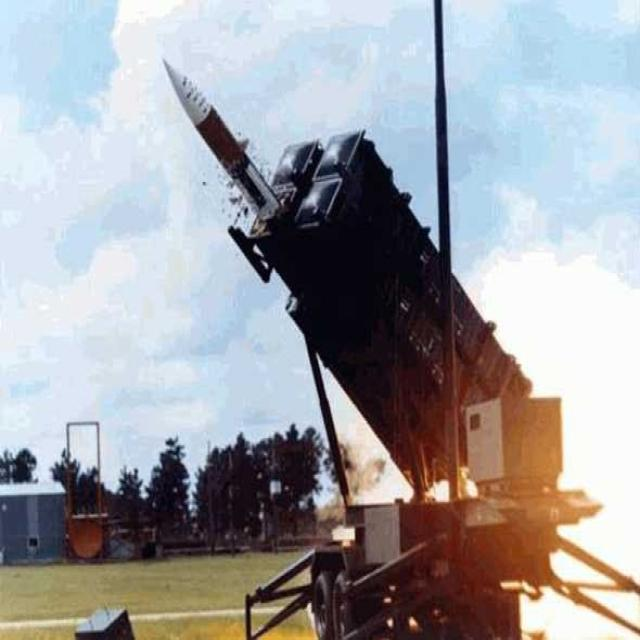missile: (161, 53, 279, 221)
